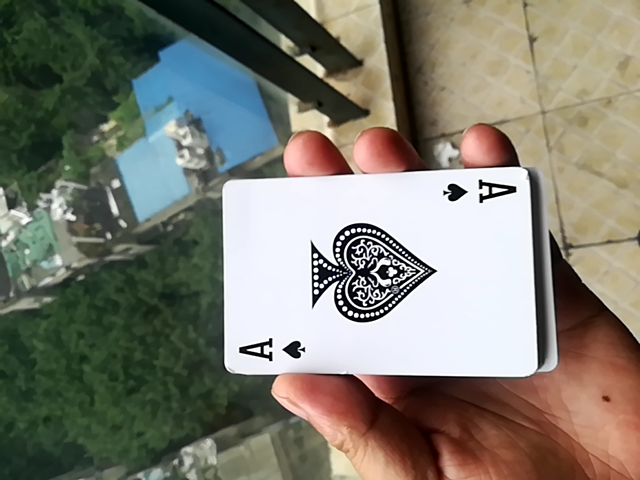ht a: (220, 161, 544, 389)
